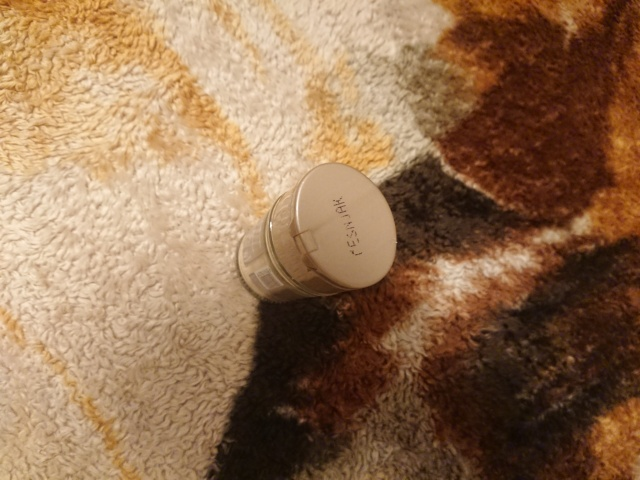Kotanyi Garlic Granules 70g: (232, 160, 400, 310)
